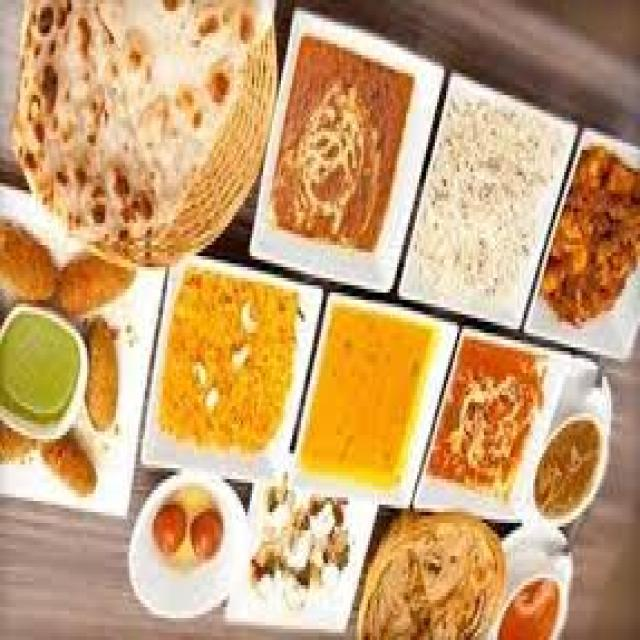dal: (302, 299, 424, 495)
rice: (150, 254, 313, 472)
roti: (6, 0, 260, 254), (357, 510, 511, 640), (544, 138, 640, 324)
sweet: (523, 382, 617, 524), (140, 474, 234, 608), (79, 323, 127, 435)
veg-fry: (153, 259, 313, 477), (430, 330, 559, 504), (238, 471, 360, 629)
